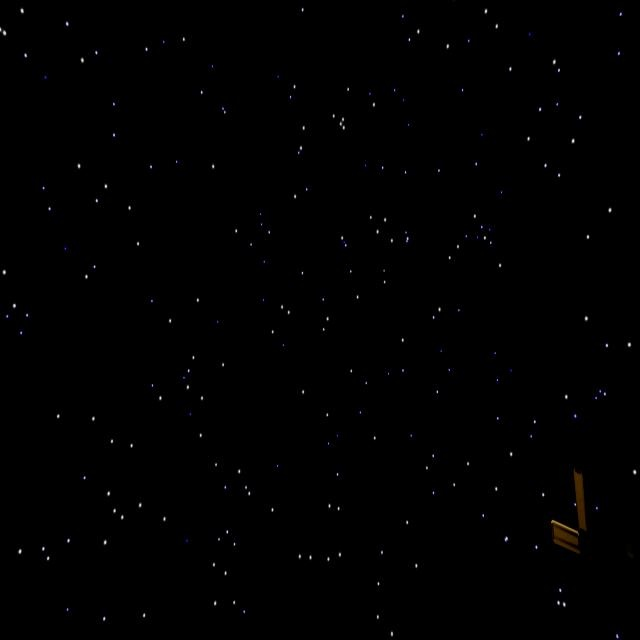satellite: (533, 462, 635, 569)
